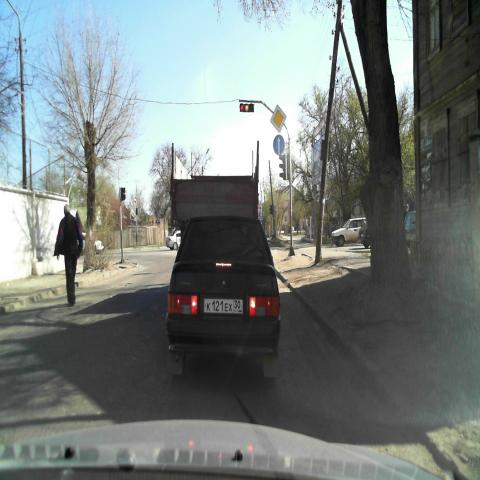2_1: (271, 105, 286, 131)
4_1_1: (273, 133, 285, 156)
